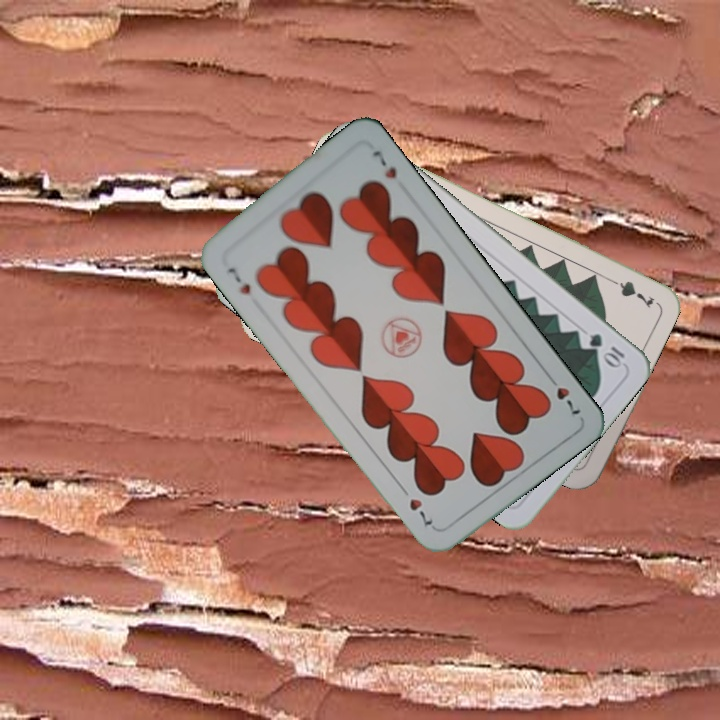G10: (585, 329, 628, 370)
G7: (601, 273, 657, 311)
H7: (542, 369, 584, 421), (224, 263, 254, 297)
